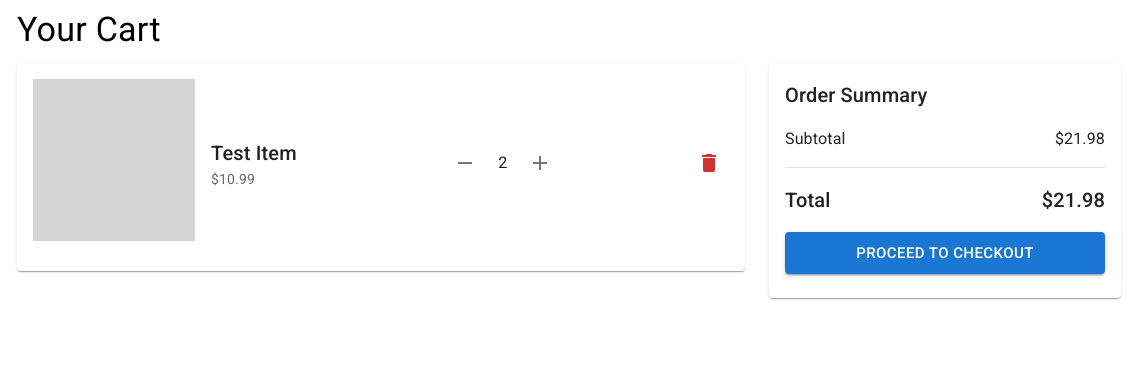
Test: Cart Component › shows error message when checkout fails
This screenshot has width=1139, height=381.
What coordinates should you click on to do the following:
click the button "Proceed to Checkout"
I would click on:
 (945, 253)
Its box is [785,232,1105,274].
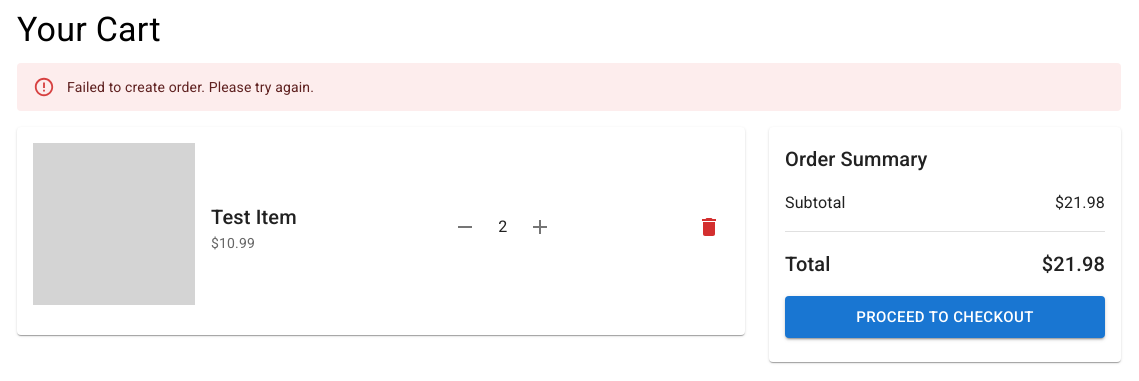
Expected: the text "Failed to create order. Please try again." is shown, [67,79,314,95]
